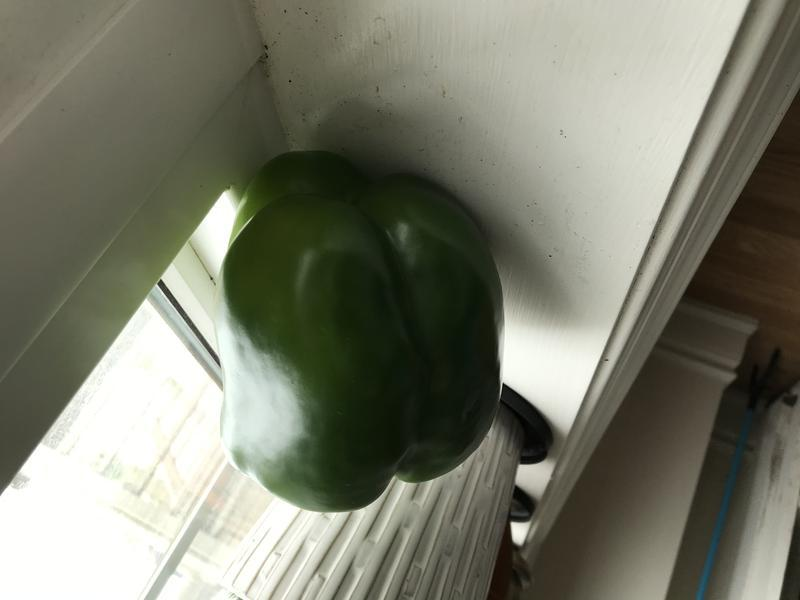green_pepper: (207, 142, 519, 511)
